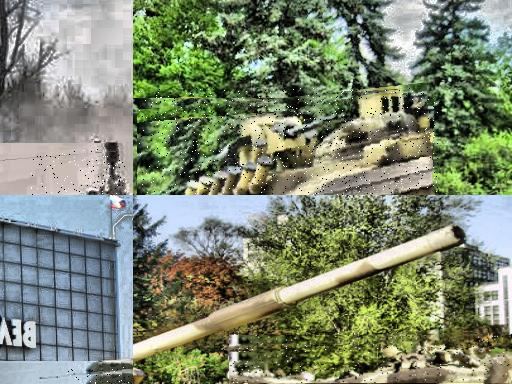tanks: (134, 228, 464, 363), (189, 89, 437, 196), (230, 334, 512, 384), (90, 150, 124, 196), (134, 370, 144, 384)
